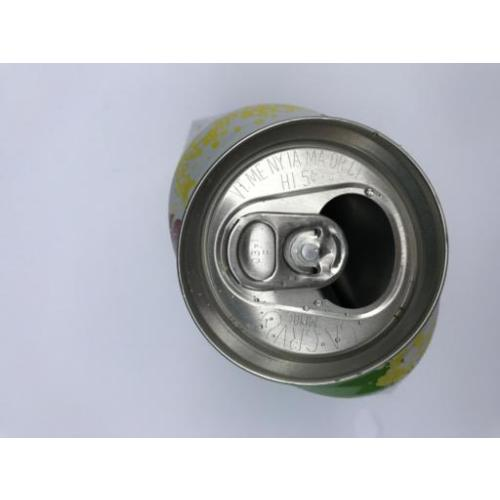metal: (174, 109, 451, 393)
